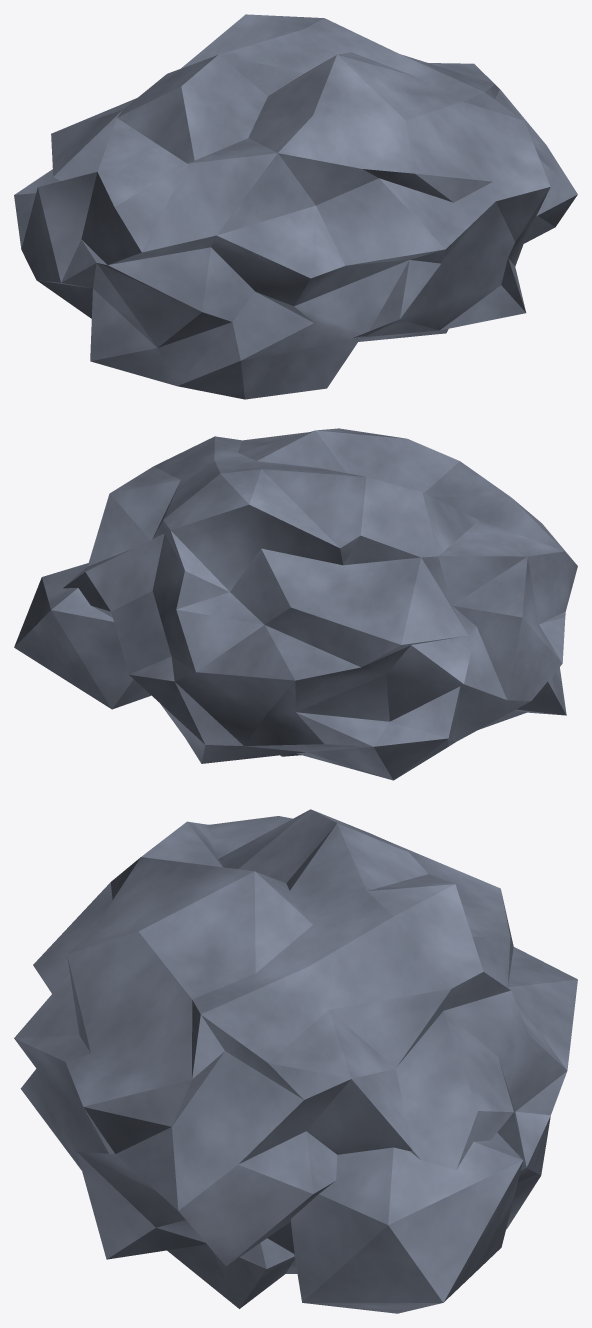
Rendered from env_rock_a.glb.
3 views of the same model, one above another, from view 1: azimuth 30°, elevation 25°; view 2: azimuth 150°, elevation 25°; view 3: azimuth 270°, elevation 25° (orthographic). The views are drawn at different scales.
Visible parts, largest first — view 1: env_rock_a; view 2: env_rock_a; view 3: env_rock_a.
Part boxes in pixels (x1,y1,x2,y2): env_rock_a: (14,14,577,399); env_rock_a: (14,428,577,780); env_rock_a: (14,809,577,1313).
Bounding box in the file's own units: 4.46 × 2.62 × 3.45.
Materials: 1 (1 with a texture image).
